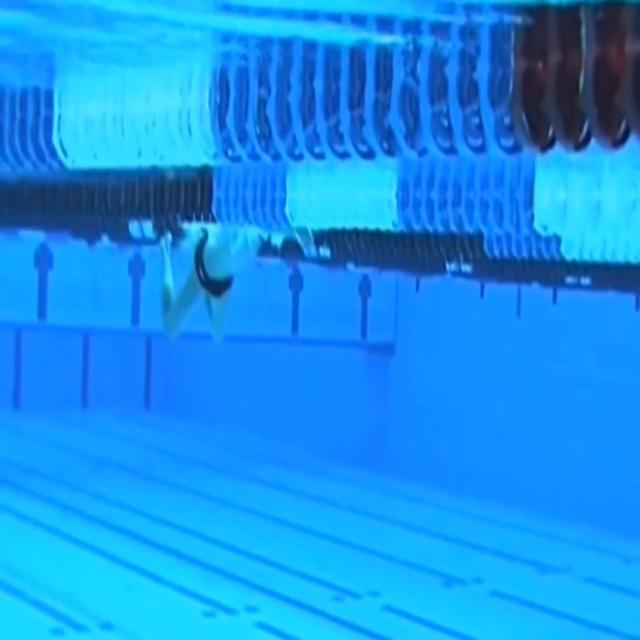Swimming: (158, 227, 267, 342)
